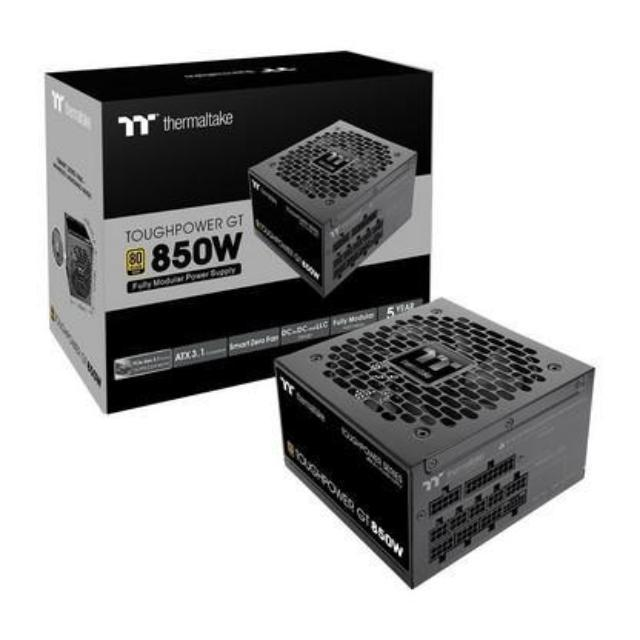PSU: (262, 291, 600, 597)
